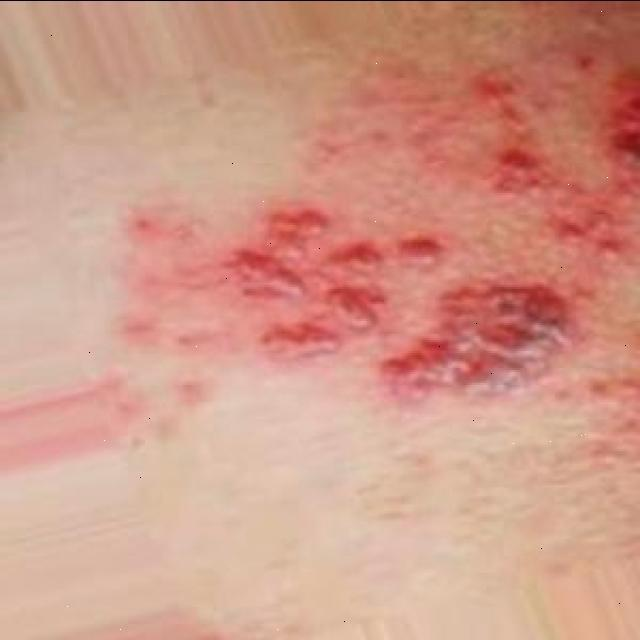Shingles: (145, 63, 640, 401)
